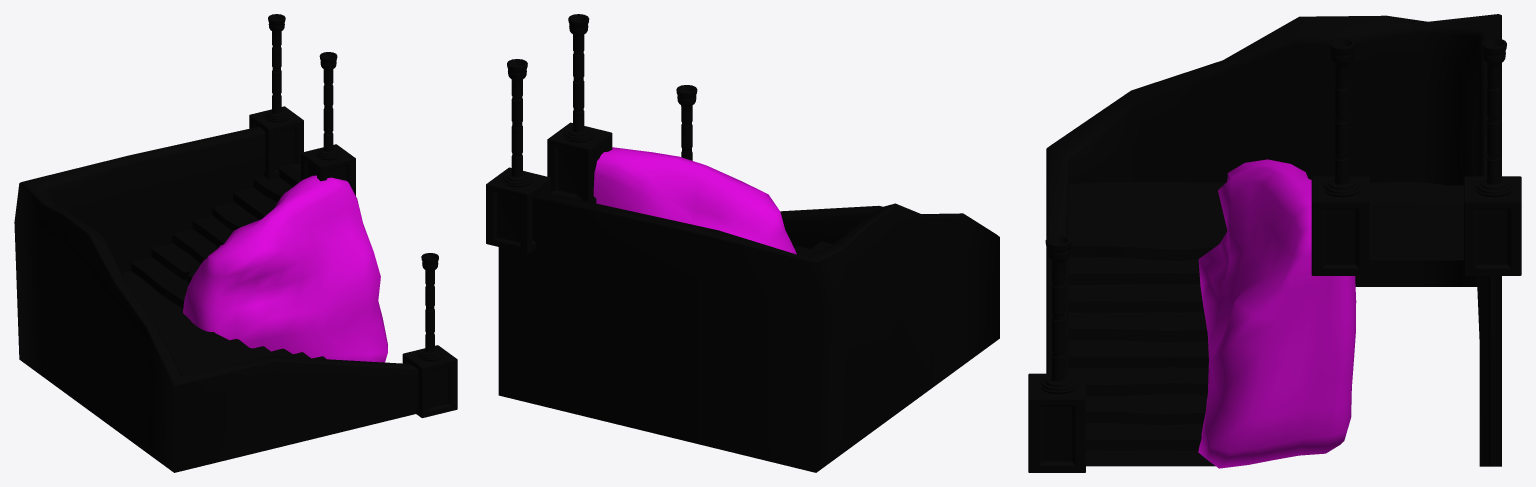
The model's file is stairs.fbx.
The picture shows the model from 3 angles, left to right: view 1: azimuth 30°, elevation 25°; view 2: azimuth 150°, elevation 25°; view 3: azimuth 270°, elevation 25°; orthographic projection. The views are drawn at different scales.
Visible parts, largest first — view 1: Stairs_; view 2: Stairs_; view 3: Stairs_.
Part boxes in pixels (x1,y1,x2,y2): Stairs_: [14, 14, 457, 472]; Stairs_: [486, 14, 999, 472]; Stairs_: [1028, 14, 1521, 472].
Bounding box in the file's own units: 10.54 × 10.19 × 10.86.
